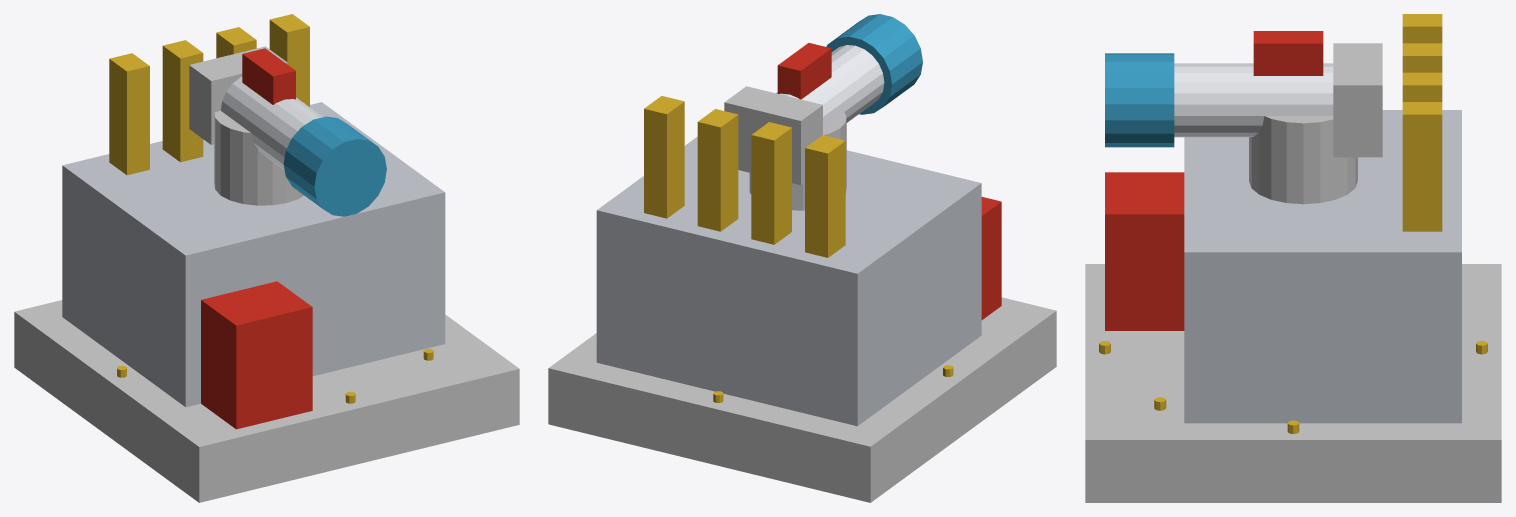
Rendered from laser_defense.obj.
3 views of the same model, side by side, from view 1: azimuth 30°, elevation 25°; view 2: azimuth 150°, elevation 25°; view 3: azimuth 270°, elevation 25° (orthographic). The views are drawn at different scales.
Parts seen in each view (by area): view 1: laser_defense; view 2: laser_defense; view 3: laser_defense.
Part boxes in pixels (left/top/right/bottom): laser_defense: left=14, top=14, right=519, bottom=502; laser_defense: left=548, top=14, right=1056, bottom=502; laser_defense: left=1085, top=14, right=1501, bottom=502.
Size of the model in its own units: 0.84 by 0.84 by 0.84.
